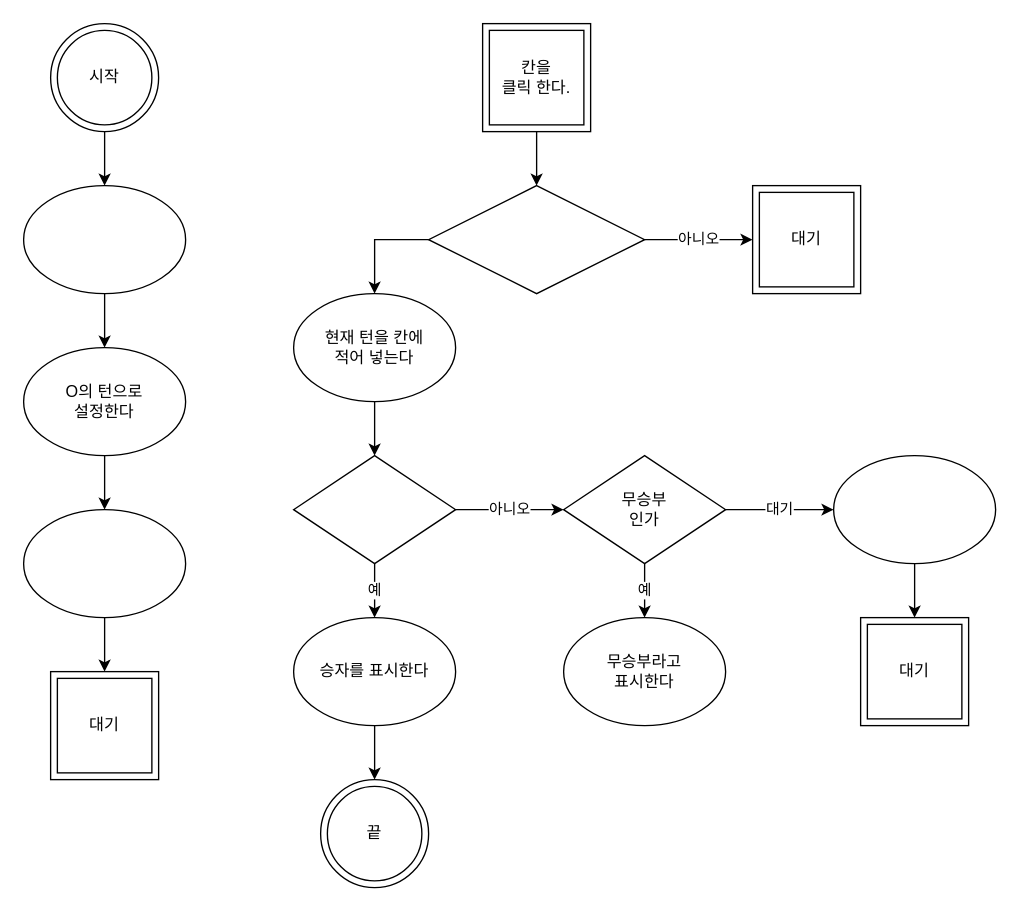
The diagram is 1019 pixels wide and 911 high, and some of its shapes have lost their labels. Each missing label, with the centre of its shape:
"3x3 이차원 배열을 준비한다." goes at [104,239].
"3x3 테이블을 그린다" goes at [104,563].
"승부가 났는가?" goes at [374,509].
"클릭한 칸이 비어 있는가?" goes at [536,239].
"턴을 넘긴다" goes at [914,509].
